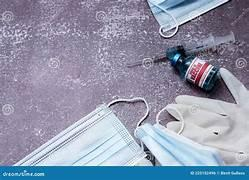Glove: (166, 68, 248, 164)
Iv_Bottle: (166, 46, 218, 90)
Mask: (15, 98, 149, 165), (135, 121, 222, 165), (148, 0, 228, 37)
